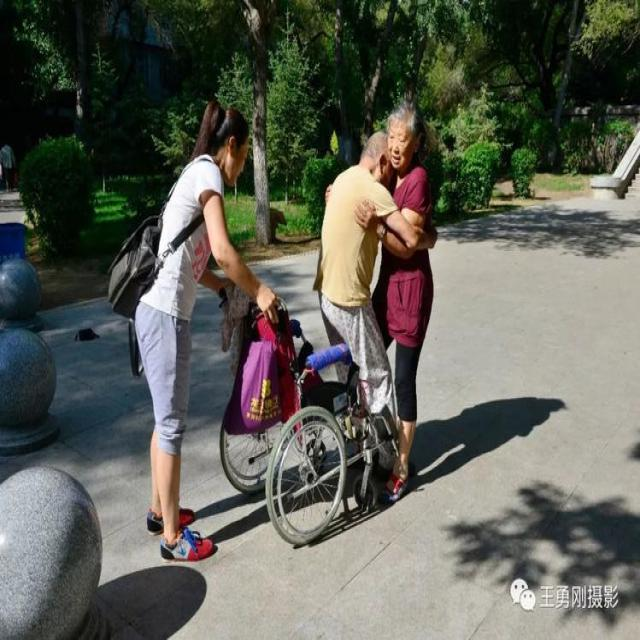wheelchairs: (212, 277, 420, 552)
